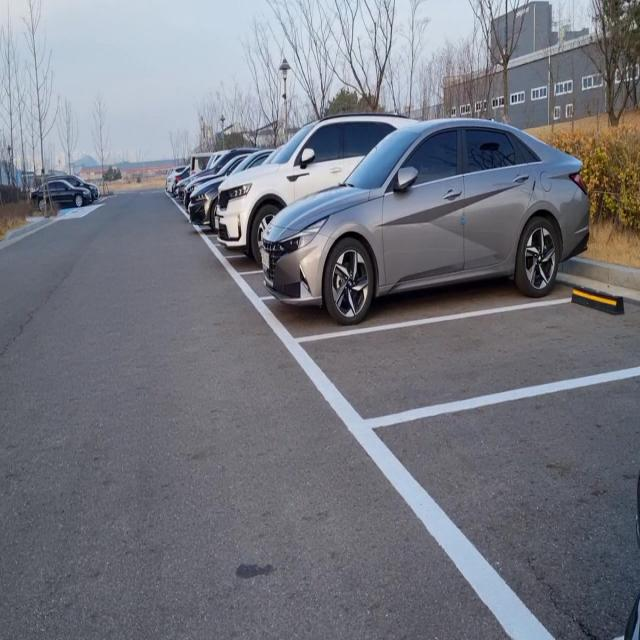empty: (286, 284, 633, 442)
occupied: (251, 128, 543, 352), (214, 162, 266, 278)
